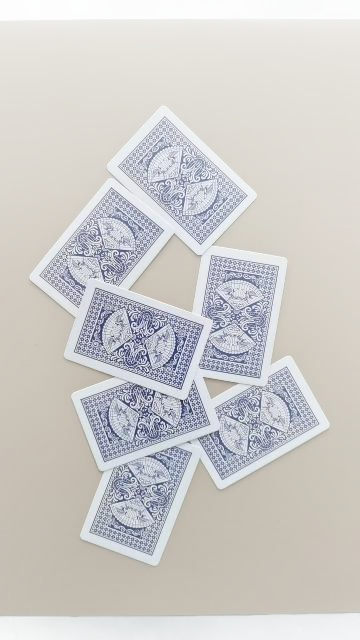card: (108, 106, 256, 255), (192, 356, 330, 488), (64, 279, 211, 399), (80, 444, 201, 566), (72, 372, 220, 471), (41, 190, 162, 306), (192, 246, 288, 386)
